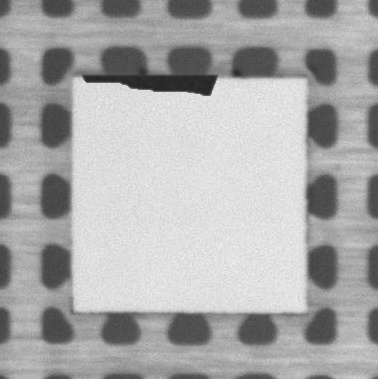DIE_BROKEN: (75, 72, 220, 96)
